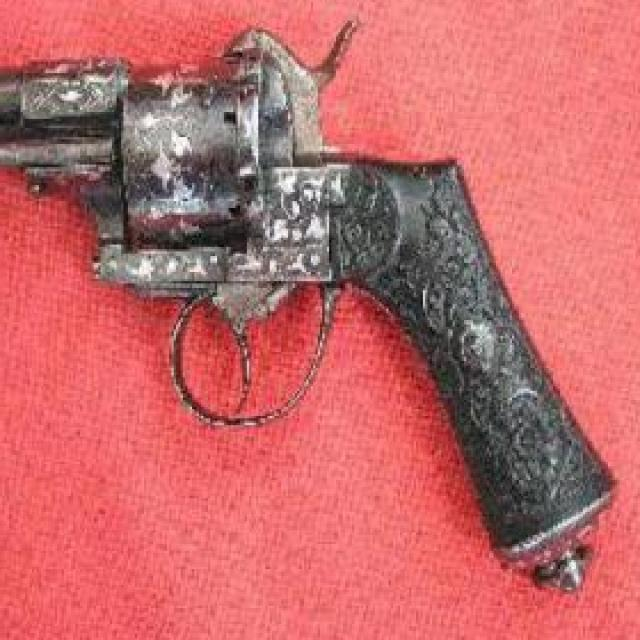pistol: (0, 11, 615, 596)
